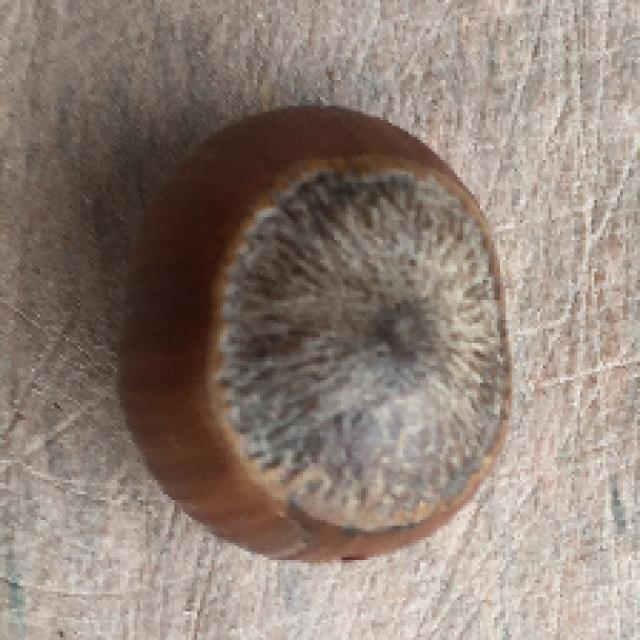qualityHazelnut: (119, 97, 507, 564)
